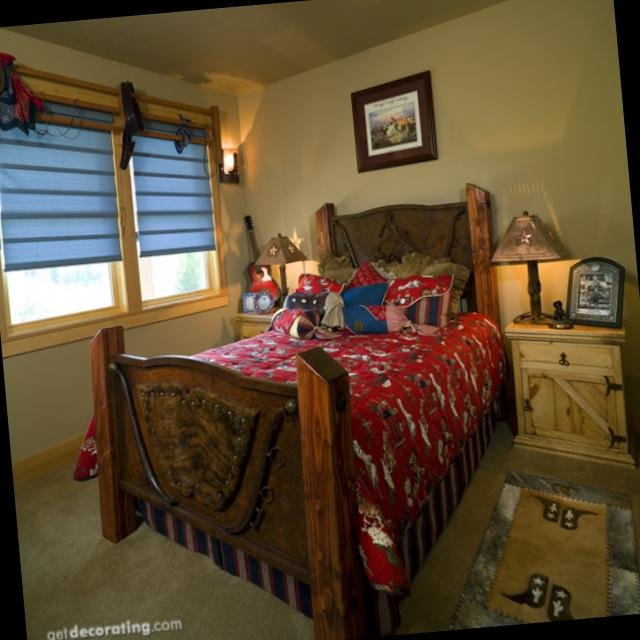2001: (0, 73, 226, 339)
bed -occluded-: (87, 181, 509, 640)
ceiling beam: (0, 0, 503, 94)
cushion: (392, 249, 468, 323), (380, 275, 446, 331), (339, 304, 412, 334), (282, 291, 341, 324), (269, 307, 328, 337), (342, 259, 391, 287), (317, 250, 359, 281), (294, 271, 344, 293), (340, 284, 386, 305)
floor -X: (14, 387, 640, 640)
guitar: (241, 213, 278, 304)
lamp crop: (489, 208, 568, 323), (256, 231, 305, 300), (219, 143, 240, 179)
night table: (232, 300, 287, 338)
night table crop: (502, 312, 635, 466)
photo frame: (565, 254, 623, 326), (241, 290, 257, 313)
picture crop: (349, 69, 436, 171)
rug -partially obscured-: (448, 467, 640, 628)
wall clock: (236, 0, 640, 435), (0, 27, 253, 486)
